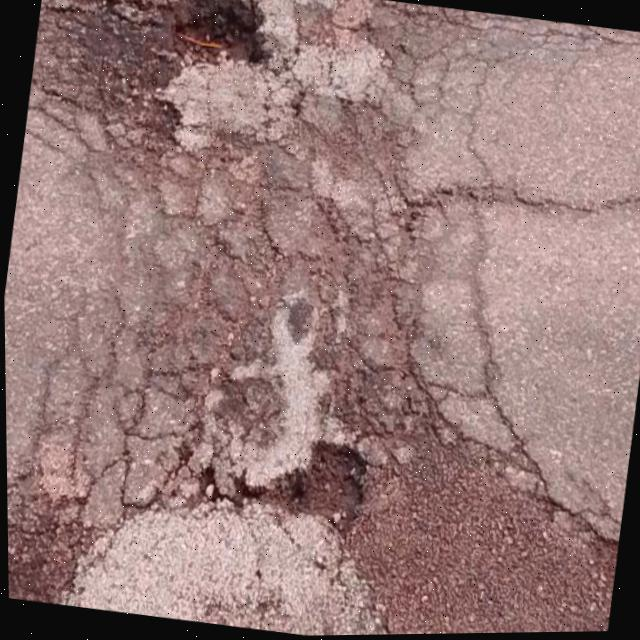Pothole: (139, 306, 448, 594), (23, 0, 297, 168)
